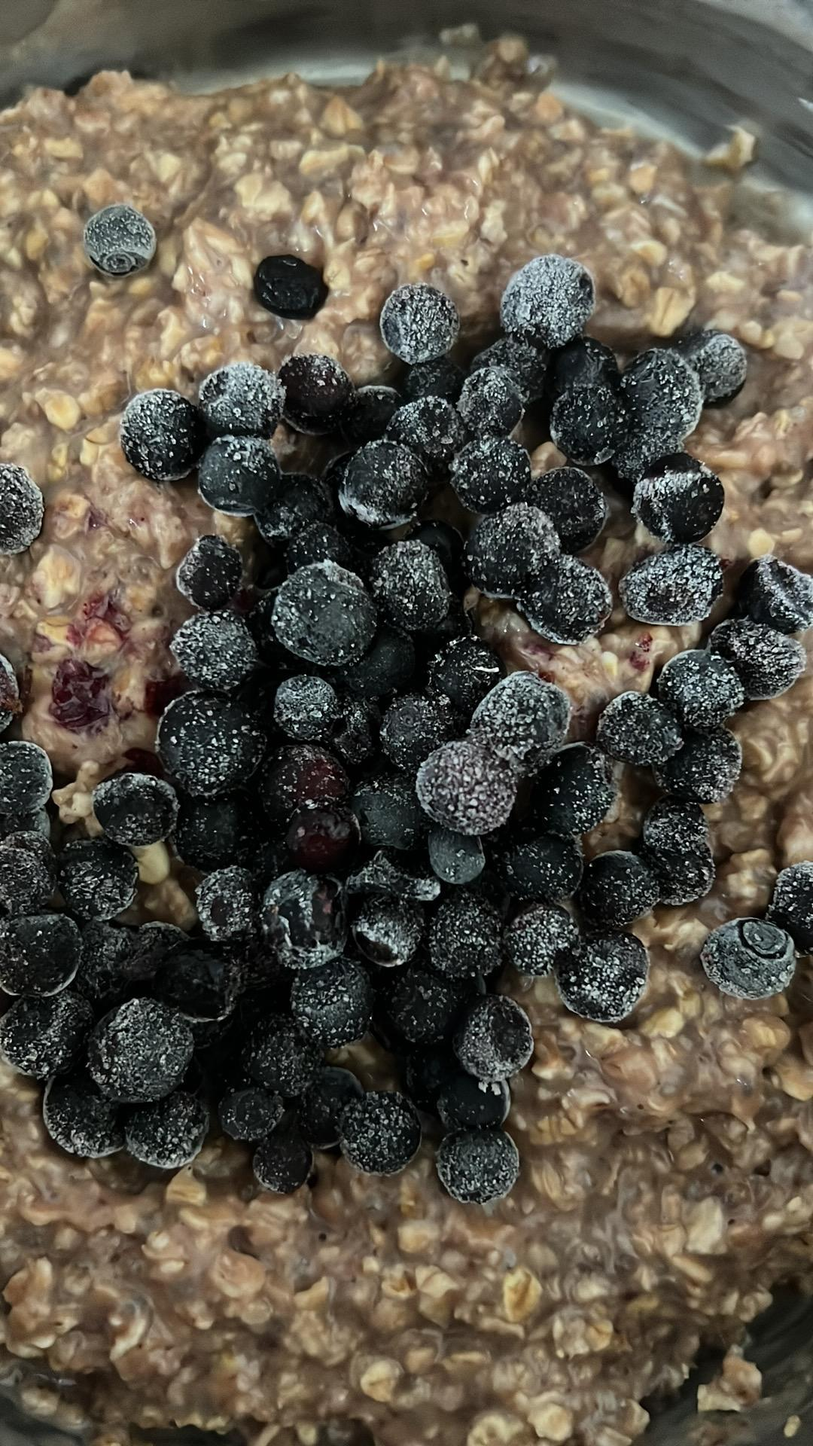blueberry: (263, 562, 385, 671), (154, 690, 266, 796), (402, 731, 508, 838), (88, 993, 187, 1092), (698, 915, 801, 1008), (715, 617, 813, 709), (499, 252, 591, 345), (110, 388, 206, 477), (0, 976, 86, 1074), (375, 538, 461, 635), (556, 933, 650, 1020), (528, 743, 609, 843), (638, 461, 732, 546), (464, 506, 559, 588), (480, 675, 562, 769), (341, 1080, 420, 1177), (251, 1008, 329, 1105), (523, 556, 608, 645), (624, 353, 706, 441), (437, 1122, 523, 1205), (620, 546, 724, 614), (251, 476, 340, 555), (271, 862, 333, 973), (3, 906, 76, 1000), (459, 998, 536, 1085), (524, 471, 607, 550), (51, 1069, 127, 1155), (372, 680, 441, 774), (172, 612, 252, 693), (168, 799, 248, 880), (581, 845, 660, 927), (162, 940, 235, 1028), (195, 434, 276, 512), (203, 366, 297, 433), (346, 436, 418, 523), (191, 860, 258, 953), (120, 1097, 203, 1172), (383, 283, 469, 353), (344, 891, 422, 968), (277, 358, 358, 432), (351, 894, 424, 976), (436, 893, 507, 977), (353, 772, 422, 858), (557, 386, 628, 469), (660, 653, 736, 730), (448, 438, 533, 506), (741, 551, 813, 631), (600, 686, 671, 766), (295, 961, 363, 1044), (83, 204, 160, 277), (389, 969, 462, 1044), (92, 773, 169, 844), (503, 829, 578, 900), (506, 902, 582, 972), (451, 366, 531, 432), (277, 808, 359, 872), (0, 833, 61, 918), (65, 840, 135, 914), (428, 1073, 514, 1133), (677, 334, 760, 394), (664, 729, 737, 797), (383, 405, 464, 464), (640, 846, 719, 906), (76, 920, 134, 997), (220, 1074, 284, 1143), (638, 801, 709, 862), (244, 255, 320, 311), (267, 744, 340, 802), (180, 540, 241, 609), (771, 862, 813, 962), (273, 671, 330, 742), (433, 645, 487, 718), (434, 823, 487, 894), (353, 633, 411, 697), (0, 736, 51, 808), (260, 1128, 313, 1194), (0, 471, 38, 558)
